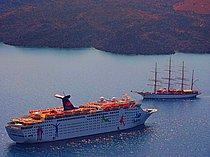Ship: (3, 88, 165, 149)
